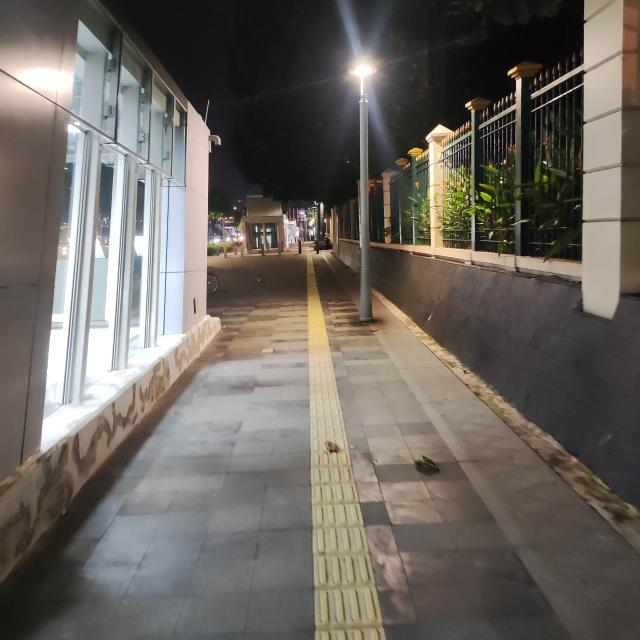lurus: (297, 290, 370, 640)
